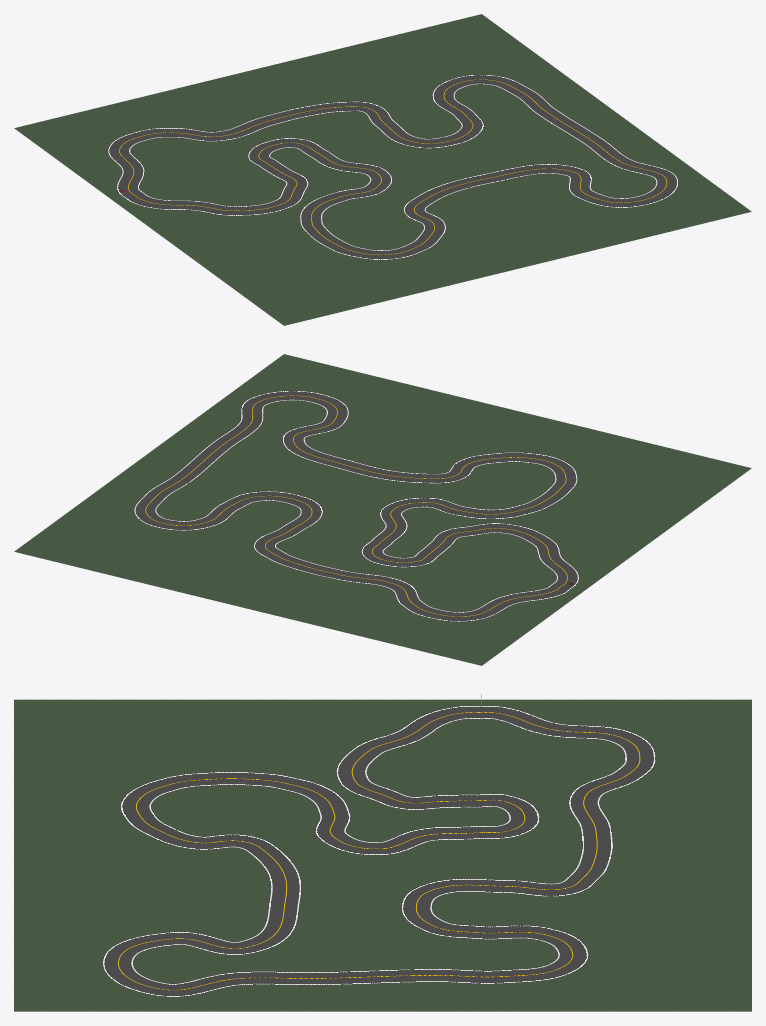
3 views of the same model, one above another, from view 1: azimuth 30°, elevation 25°; view 2: azimuth 150°, elevation 25°; view 3: azimuth 270°, elevation 25° (orthographic). The views are drawn at different scales.
Visible parts, largest first — view 1: Plane.001, Plane; view 2: Plane.001, Plane; view 3: Plane.001, Plane.
Part boxes in pixels (box(x1,y1,x2,y2)): Plane.001: box(14, 14, 751, 325); Plane: box(107, 74, 678, 259); Plane.001: box(14, 354, 751, 665); Plane: box(133, 390, 579, 621); Plane.001: box(14, 699, 751, 1011); Plane: box(102, 705, 656, 997).
Bounding box in the file's own units: 600 × 10.1 × 600.
Materials: 4 (2 with a texture image).
